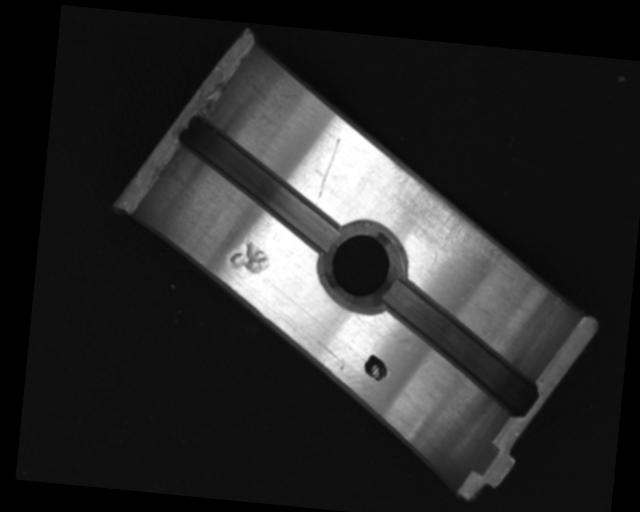blot: (362, 352, 390, 383)
bruise: (227, 236, 271, 275)
gap: (169, 113, 347, 250), (374, 280, 546, 417)
hole: (312, 218, 410, 316)
nick: (314, 136, 340, 207)
scratch: (375, 156, 525, 281)
